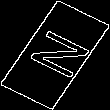N_SE: (17, 25, 93, 85)
